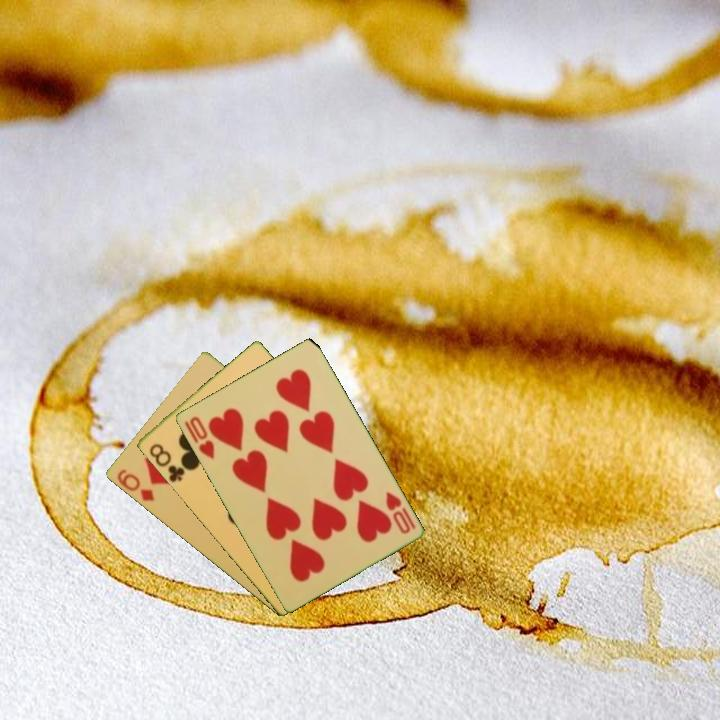10h: (180, 413, 217, 462), (382, 488, 418, 537)
6d: (113, 466, 157, 504)
8c: (145, 440, 191, 485)
